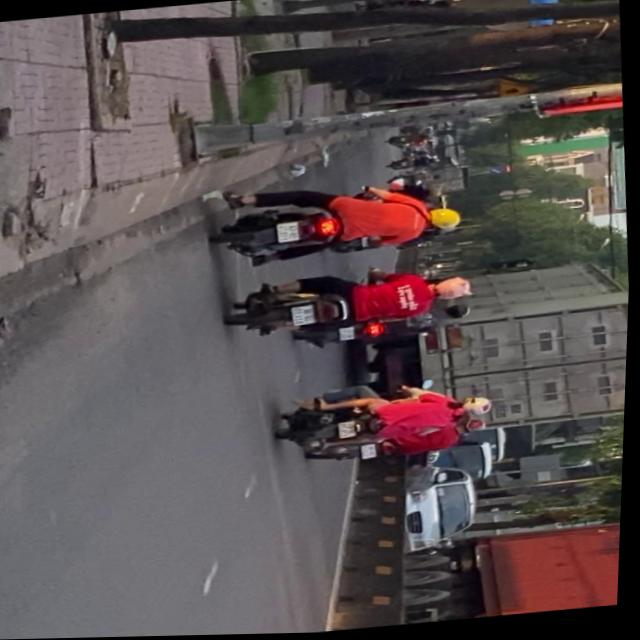helmet: (433, 277, 476, 305), (424, 208, 465, 236), (460, 418, 492, 436)
licenseplate: (209, 175, 468, 273), (226, 263, 482, 342), (272, 379, 498, 456), (314, 423, 493, 468)
motorcyclist: (456, 397, 497, 421)
nohelmet: (291, 307, 317, 327), (279, 225, 302, 244), (342, 423, 361, 440)
